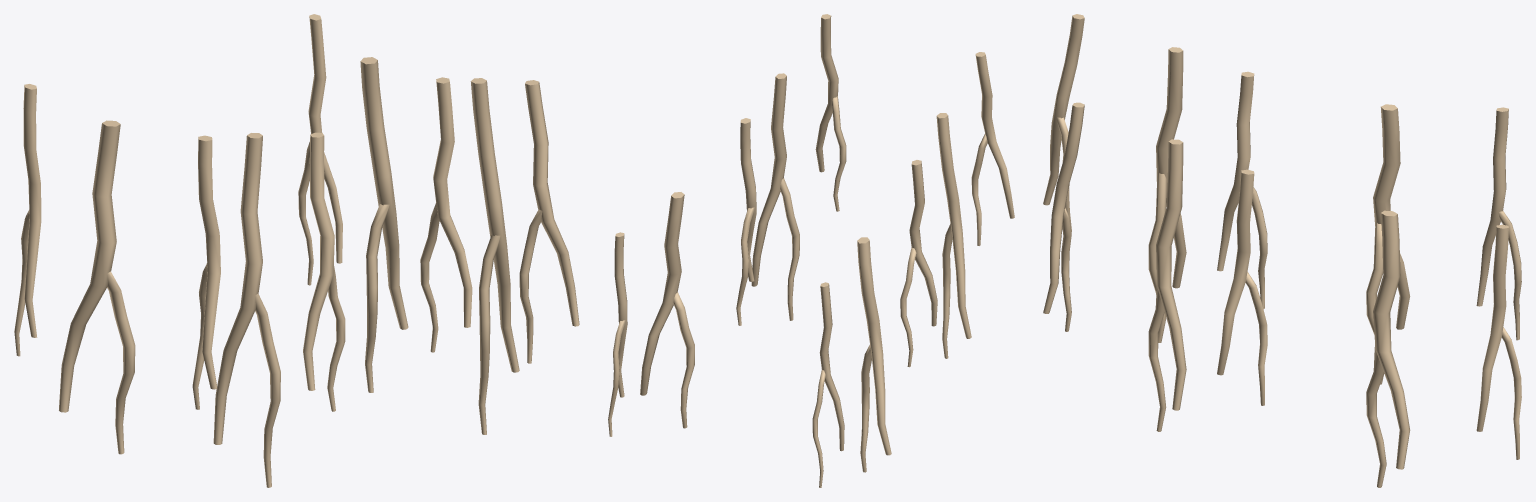
The model's file is Olfactory_Nerve_Branches01.fbx.
3 views of the same model, side by side, from view 1: azimuth 30°, elevation 25°; view 2: azimuth 150°, elevation 25°; view 3: azimuth 270°, elevation 25° (orthographic). The views are drawn at different scales.
Parts seen in each view (by area): view 1: Olfactory_Nerve_Branches02; view 2: Olfactory_Nerve_Branches02; view 3: Olfactory_Nerve_Branches02.
Boxes of the visible parts, left/top/right/bottom form: Olfactory_Nerve_Branches02: left=14, top=14, right=579, bottom=487; Olfactory_Nerve_Branches02: left=608, top=14, right=1014, bottom=487; Olfactory_Nerve_Branches02: left=1043, top=14, right=1521, bottom=487.
Size of the model in its own units: 1.45 by 1.78 by 2.05.
